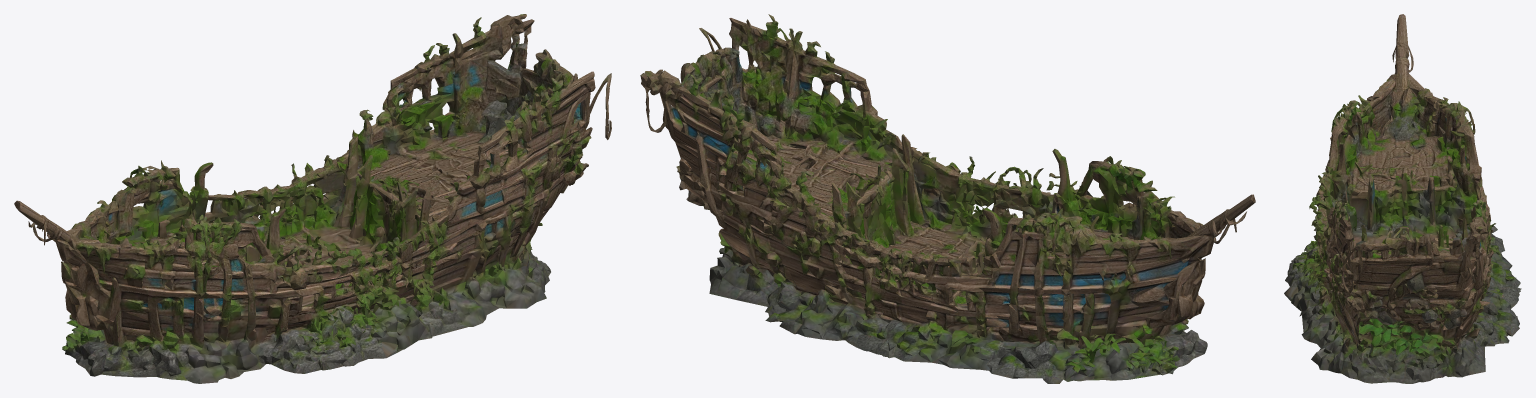
The model's file is shipwreck.glb.
3 views of the same model, side by side, from view 1: azimuth 30°, elevation 25°; view 2: azimuth 150°, elevation 25°; view 3: azimuth 270°, elevation 25° (orthographic). The views are drawn at different scales.
Parts seen in each view (by area): view 1: output_unwrapped; view 2: output_unwrapped; view 3: output_unwrapped.
Part boxes in pixels (x1,y1,x2,y2): output_unwrapped: (14, 14, 611, 383); output_unwrapped: (640, 14, 1255, 383); output_unwrapped: (1284, 14, 1521, 383).
Size of the model in its own units: 1.88 by 0.661 by 0.7917.
1 material, 1 textured.
